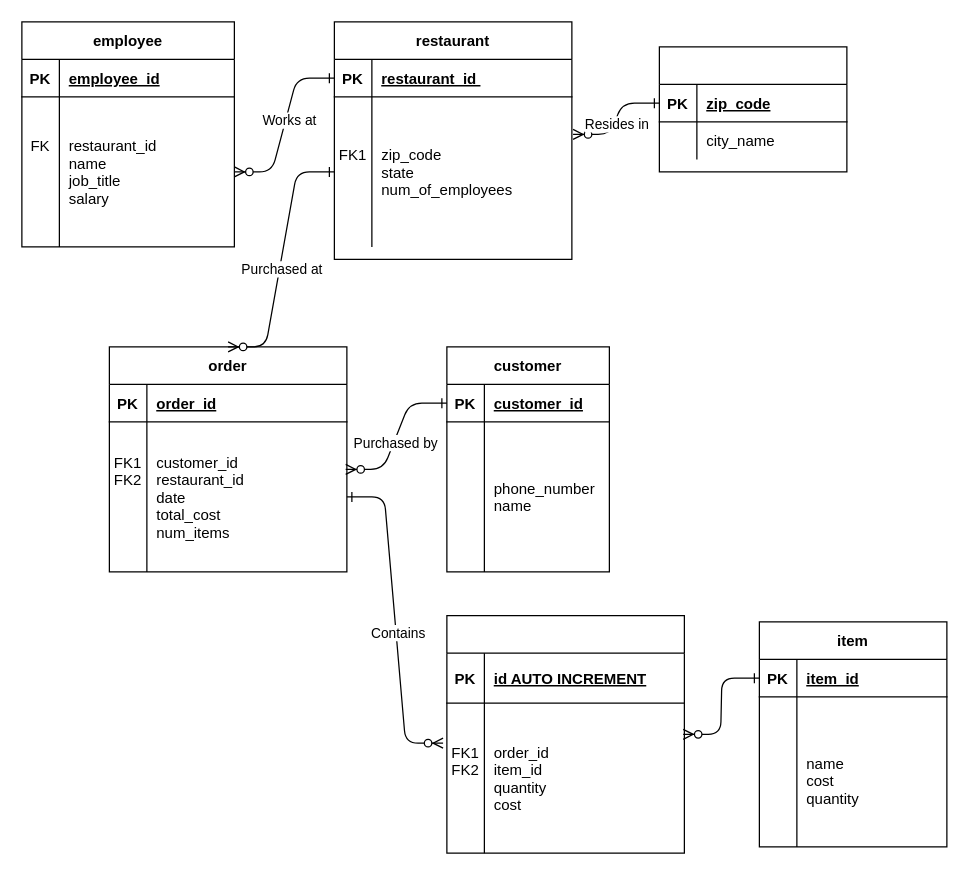
This 969x875 diagram has some shape labels left out. Here are the shapes that lost their labels. From the top down, the box of each, then its label:
(658, 46, 847, 172): location
(446, 614, 684, 853): order_details
